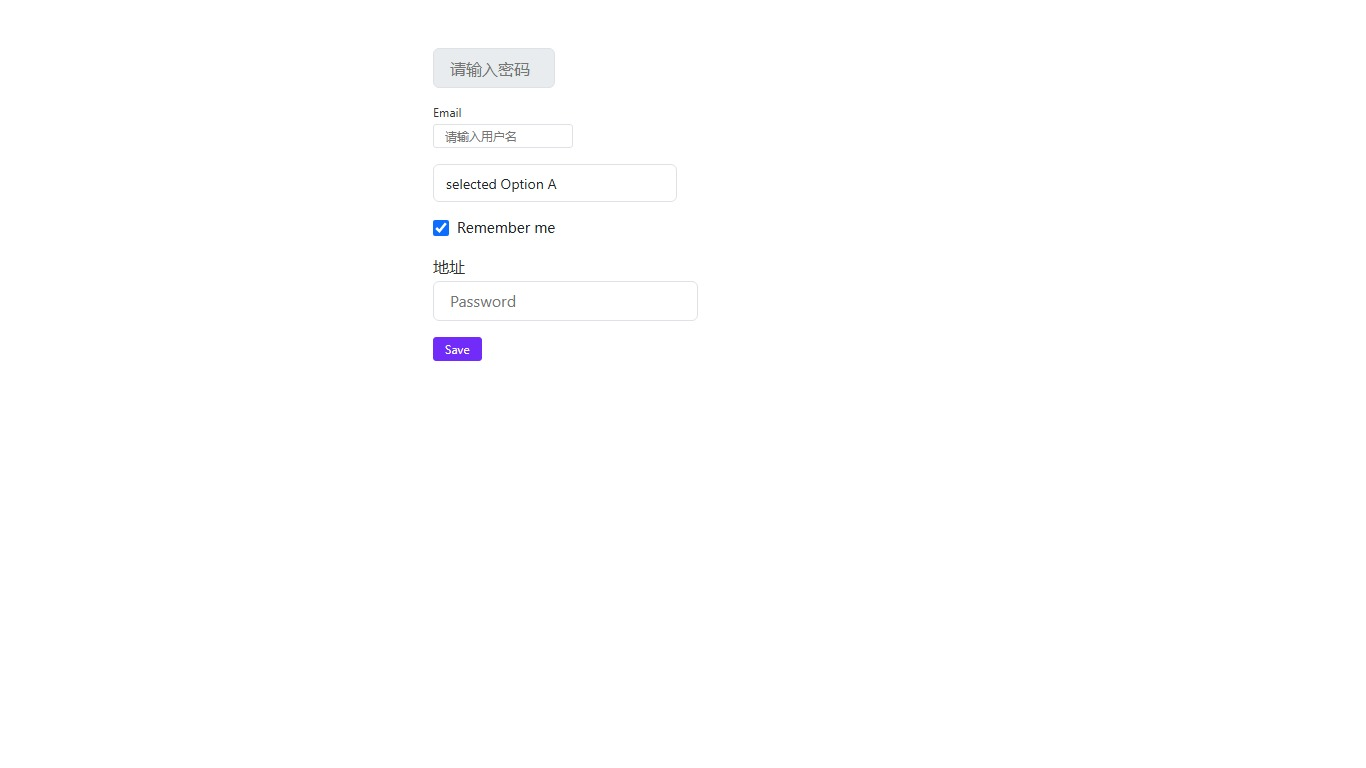button: (433, 336, 482, 360)
checkbox: (433, 220, 449, 235)
icon: (457, 218, 555, 237)
input: (433, 281, 698, 320), (433, 48, 555, 88), (433, 124, 573, 148)
radio: (433, 218, 555, 237)
select: (433, 164, 677, 202)
